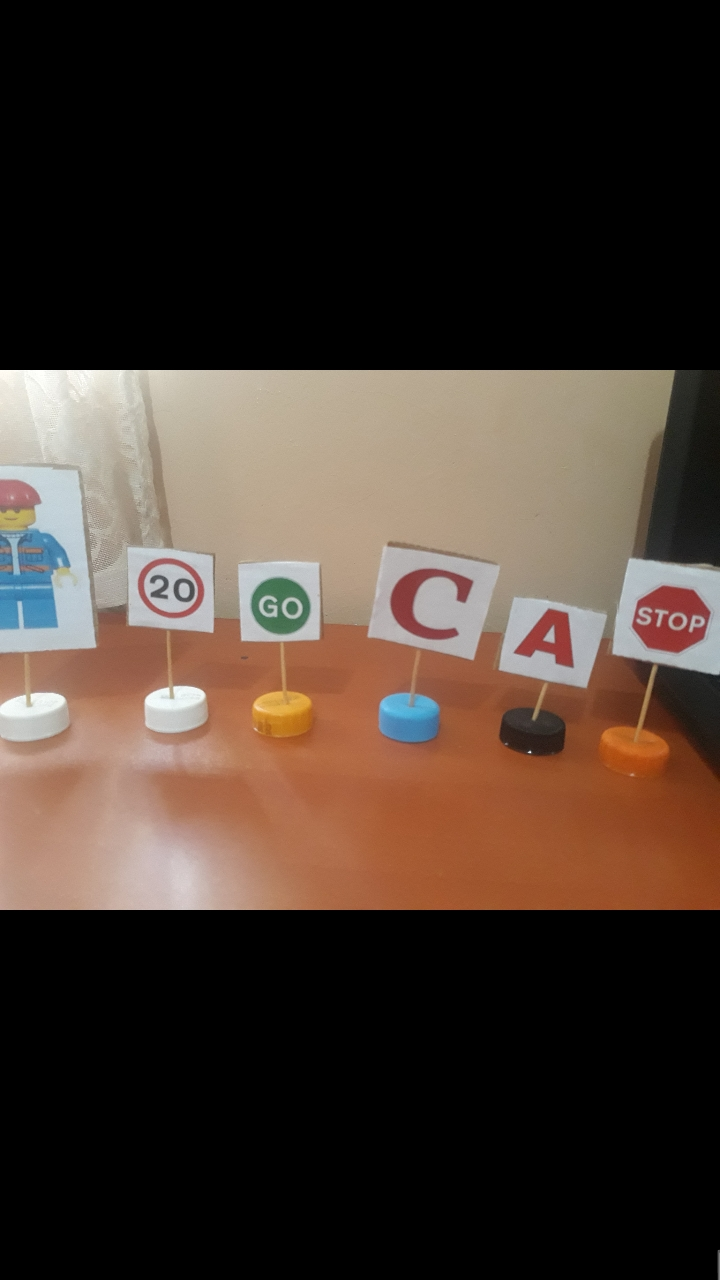20 kph: (132, 549, 212, 627)
go: (242, 565, 320, 641)
pedestrian: (1, 468, 75, 637)
stop: (630, 565, 716, 665)
zone A: (510, 600, 583, 684)
zone C: (383, 553, 481, 649)
